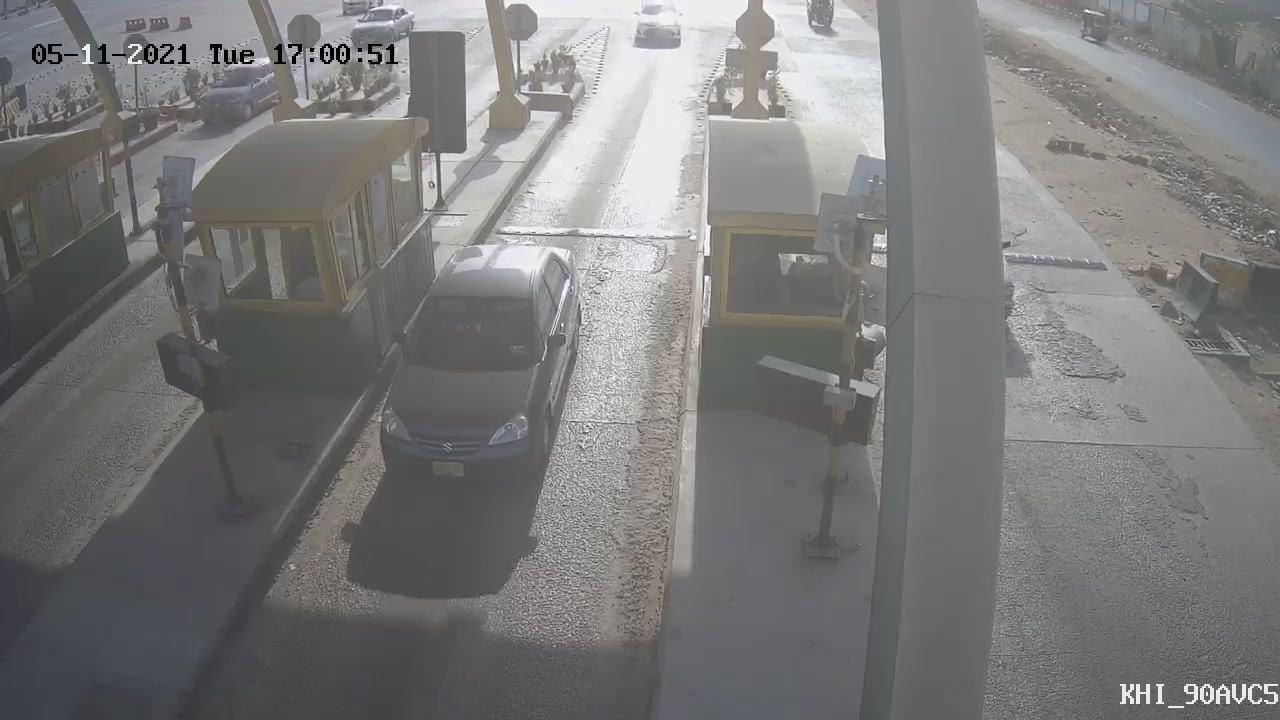F1: (351, 211, 603, 520)
